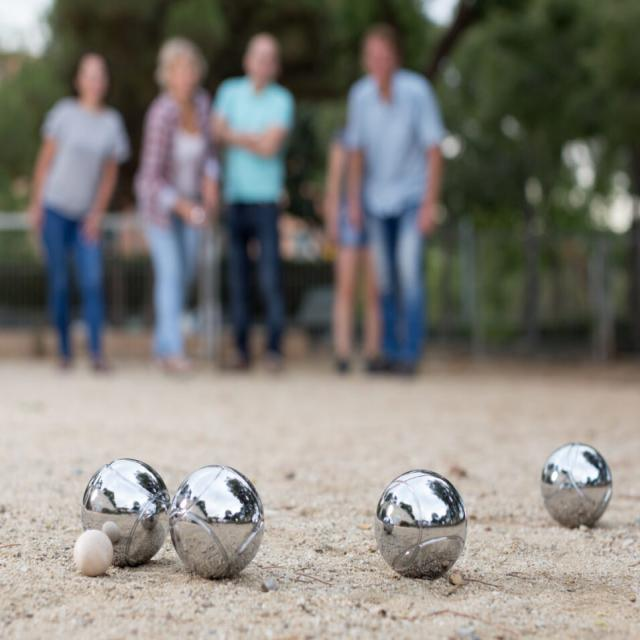hatball: (67, 526, 123, 587)
petanque: (359, 461, 473, 596), (167, 461, 269, 588), (78, 456, 172, 569), (533, 435, 621, 538)
